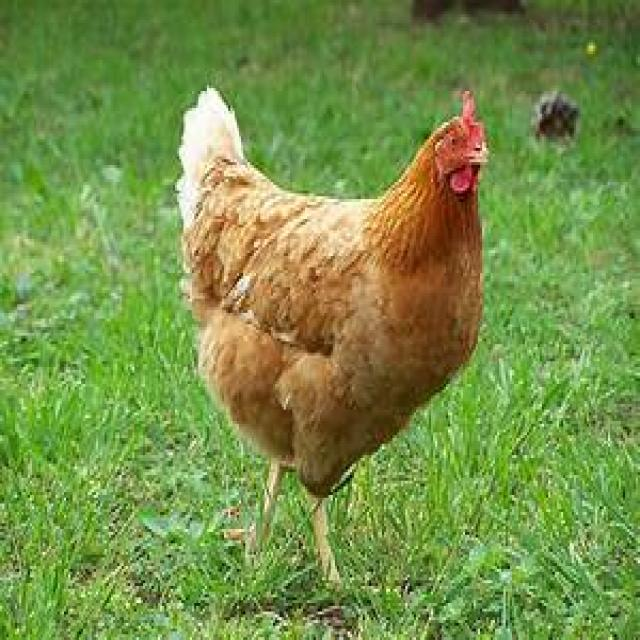hen: (178, 88, 484, 581)
